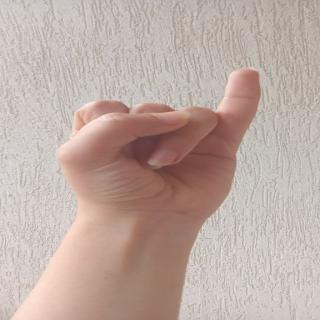MEEM: (61, 60, 276, 222)
